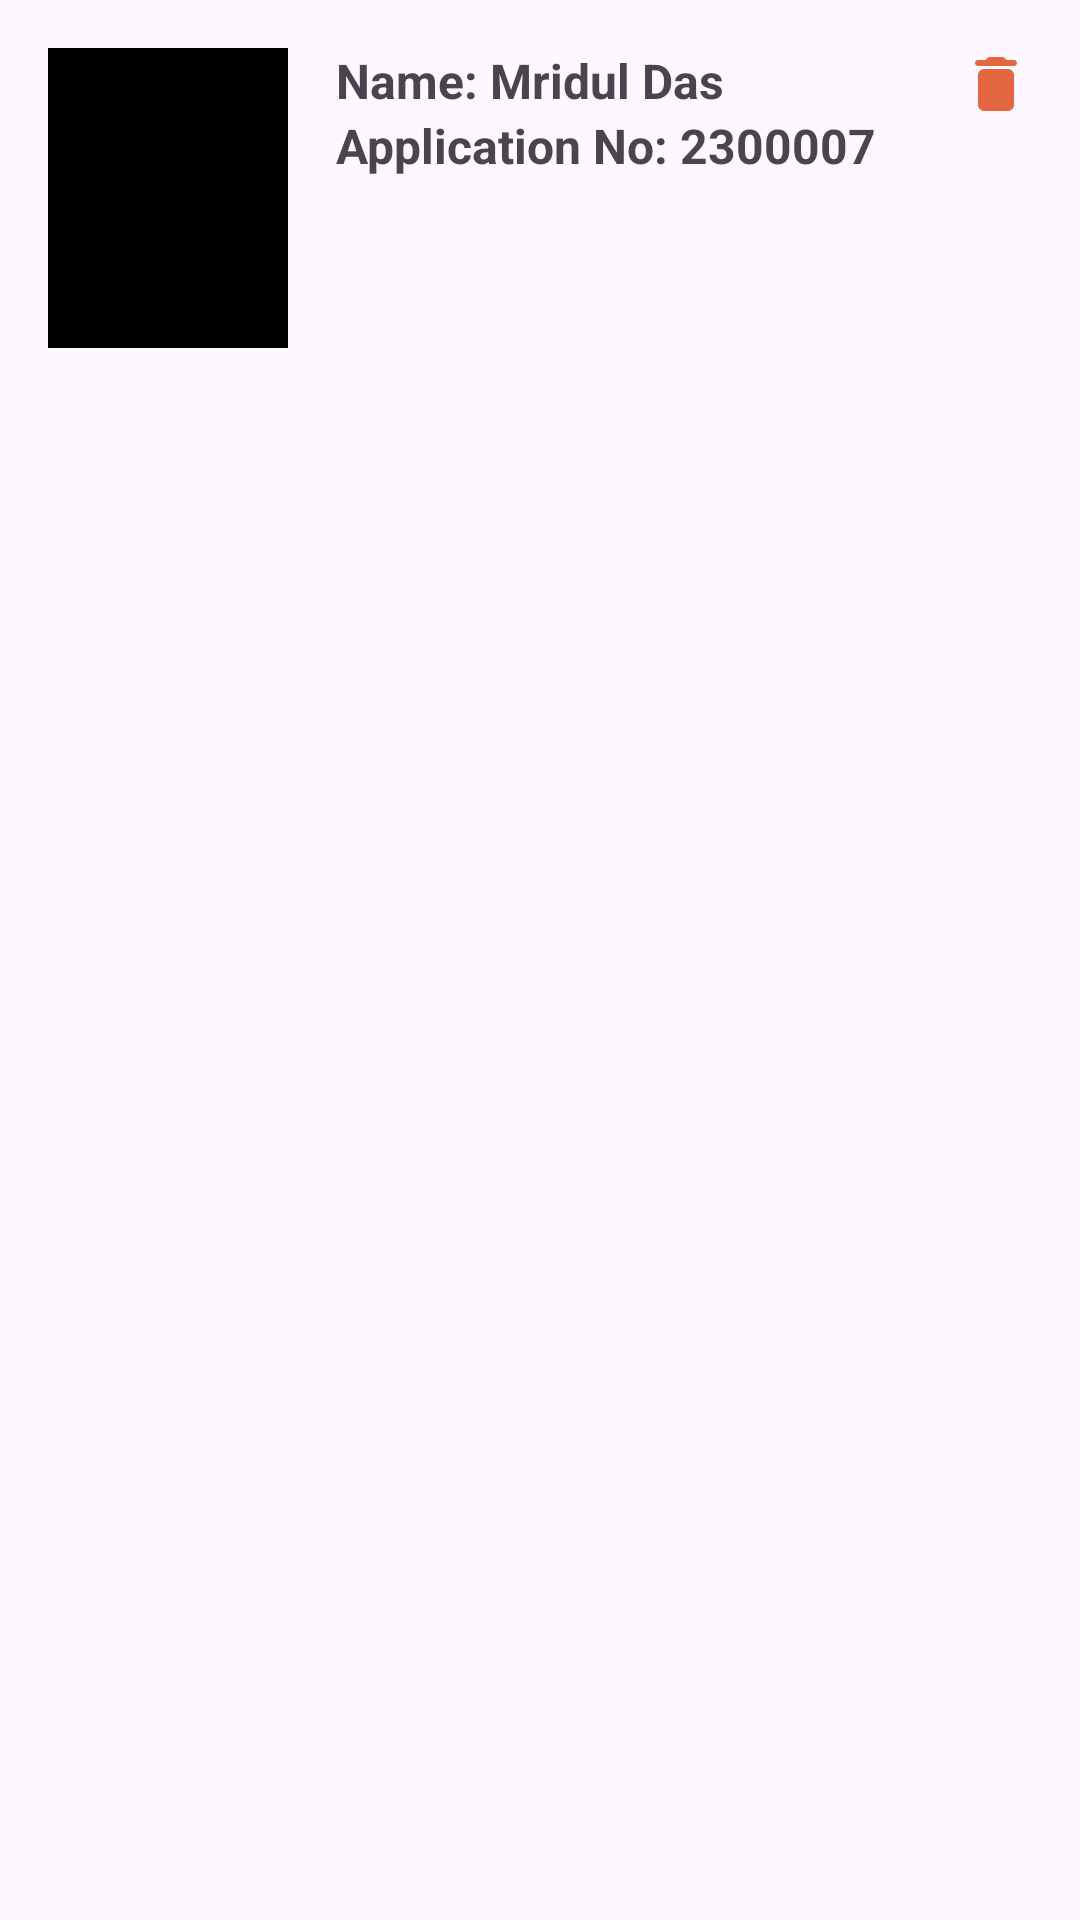

Icons on this 1080 x 1920 Android screen, each with its box as (x1, y1, x2, y2):
delete: (975, 57, 1017, 111)
